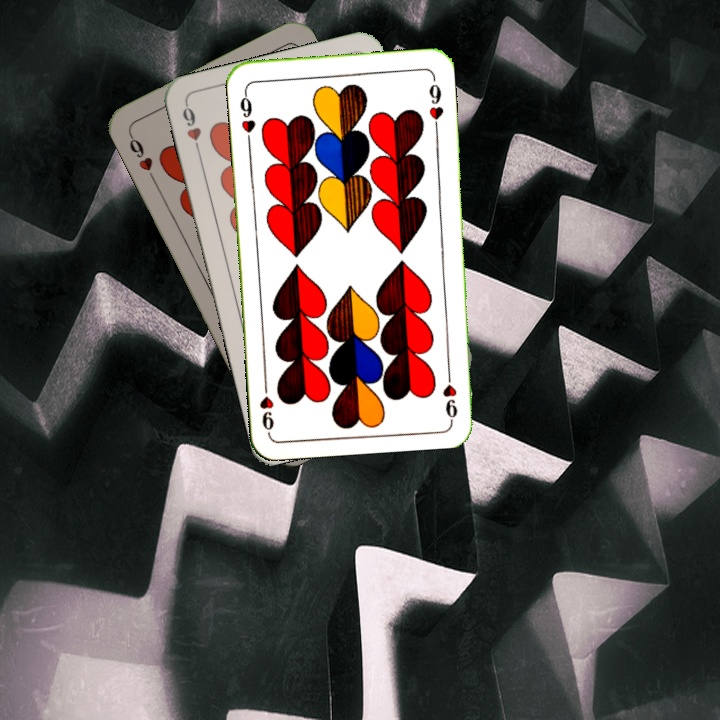H9: (124, 129, 158, 184), (178, 100, 204, 158), (236, 86, 258, 145), (440, 362, 460, 422)
